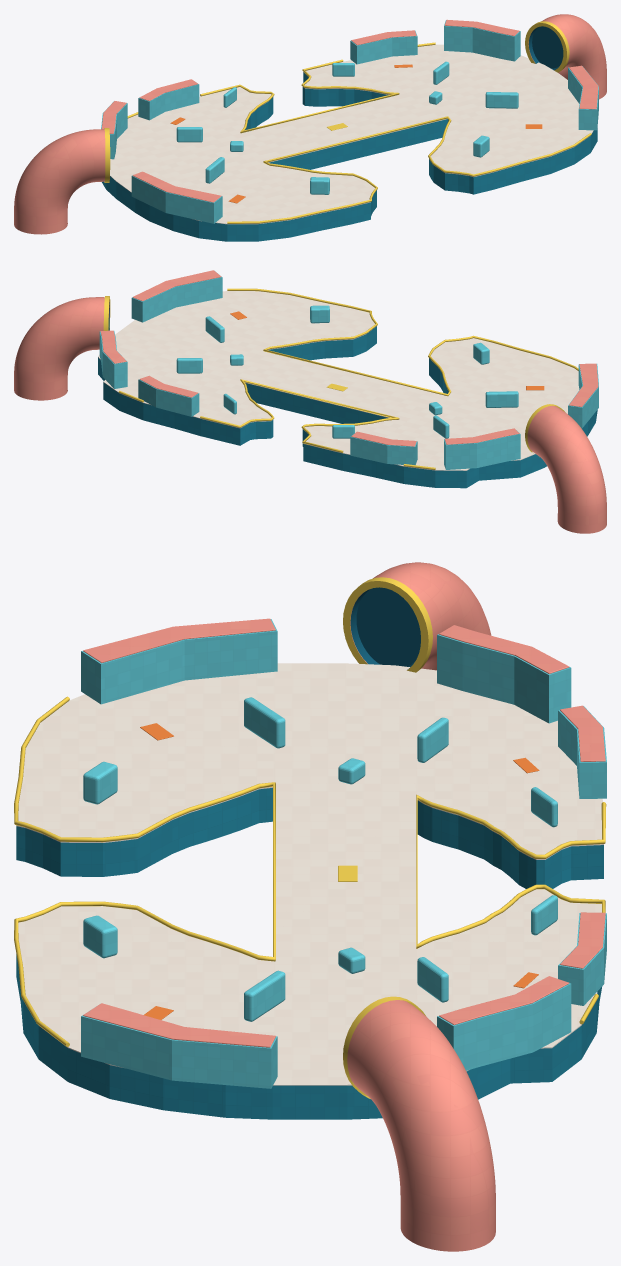
The model's file is twin_bays_splash_arena_foreground.glb.
The picture shows the model from 3 angles, top to bottom: view 1: azimuth 30°, elevation 25°; view 2: azimuth 150°, elevation 25°; view 3: azimuth 270°, elevation 25°; orthographic projection. The views are drawn at different scales.
Visible parts, largest first — view 1: Foreground_TBSA_DryCream, Foreground_TBSA_CyanDark, Foreground_TBSA_CoralSoft, Foreground_TBSA_Cyan, Foreground_TBSA_SafetyYellow, Foreground_TBSA_PortalRecess; view 2: Foreground_TBSA_DryCream, Foreground_TBSA_CoralSoft, Foreground_TBSA_CyanDark, Foreground_TBSA_Cyan, Foreground_TBSA_SafetyYellow; view 3: Foreground_TBSA_DryCream, Foreground_TBSA_Cyan, Foreground_TBSA_CoralSoft, Foreground_TBSA_CyanDark, Foreground_TBSA_SafetyYellow, Foreground_TBSA_PortalRecess, Foreground_TBSA_PickupOrange.
Boxes of the visible parts, x1,y1,x2,y2 form: Foreground_TBSA_DryCream: (110,44,593,224); Foreground_TBSA_CyanDark: (102,72,597,241); Foreground_TBSA_CoralSoft: (14,14,606,234); Foreground_TBSA_Cyan: (101,20,598,223); Foreground_TBSA_SafetyYellow: (104,21,591,223); Foreground_TBSA_PortalRecess: (528,26,563,70); Foreground_TBSA_DryCream: (98,291,579,470); Foreground_TBSA_CoralSoft: (14,270,606,533); Foreground_TBSA_CyanDark: (98,326,597,488); Foreground_TBSA_Cyan: (99,271,598,469); Foreground_TBSA_SafetyYellow: (103,288,578,469); Foreground_TBSA_DryCream: (16,663,603,1085); Foreground_TBSA_Cyan: (81,619,606,1088); Foreground_TBSA_CoralSoft: (83,562,605,1251); Foreground_TBSA_CyanDark: (16,788,603,1119); Foreground_TBSA_SafetyYellow: (14,577,606,1098); Foreground_TBSA_PortalRecess: (350,587,420,669); Foreground_TBSA_PickupOrange: (140,723,539,1019).
Size of the model in its own units: 149 by 22.64 by 66.61.
Materials: 7 (4 with a texture image).
